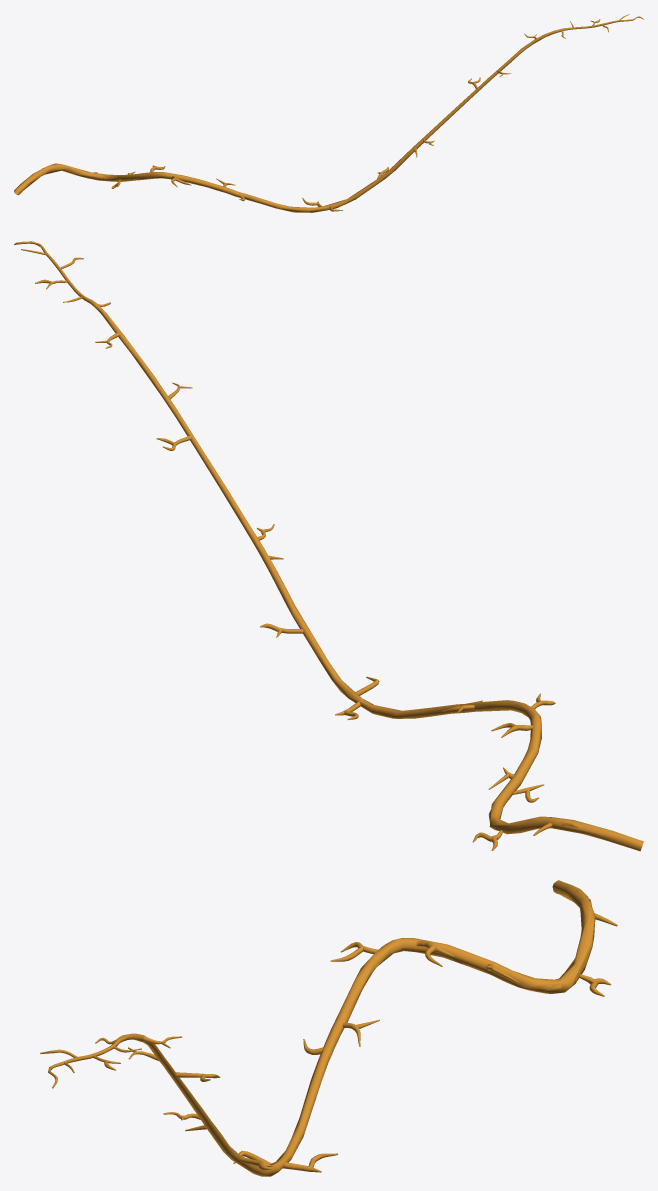
The picture shows the model from 3 angles, top to bottom: view 1: azimuth 30°, elevation 25°; view 2: azimuth 150°, elevation 25°; view 3: azimuth 270°, elevation 25°; orthographic projection. The views are drawn at different scales.
Parts seen in each view (by area): view 1: 胰管; view 2: 胰管; view 3: 胰管.
Boxes of the visible parts, bbox=[...] form: 胰管: bbox=[14, 14, 643, 212]; 胰管: bbox=[14, 241, 643, 851]; 胰管: bbox=[40, 880, 617, 1176].
Bounding box in the file's own units: 0.1757 × 0.0579 × 0.0875.
